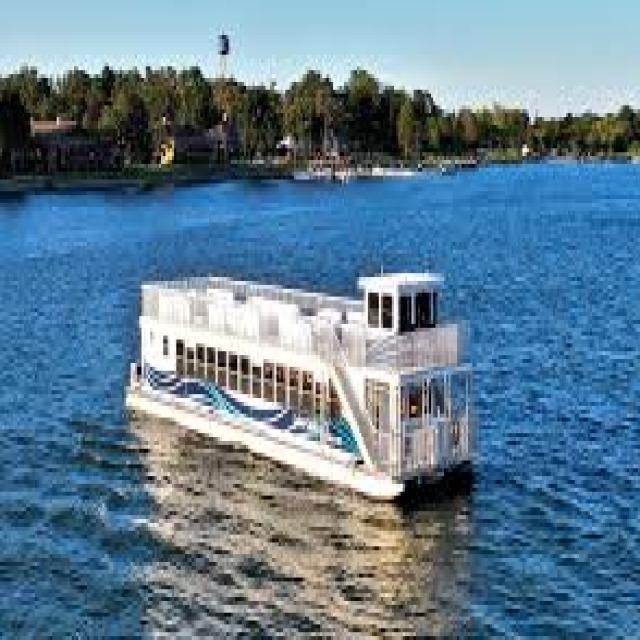passenger ship: (104, 238, 491, 497)
